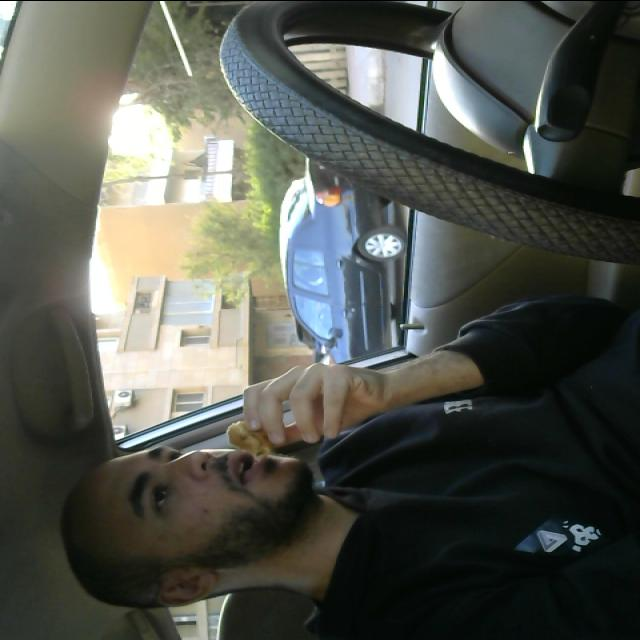eating: (209, 410, 295, 470)
